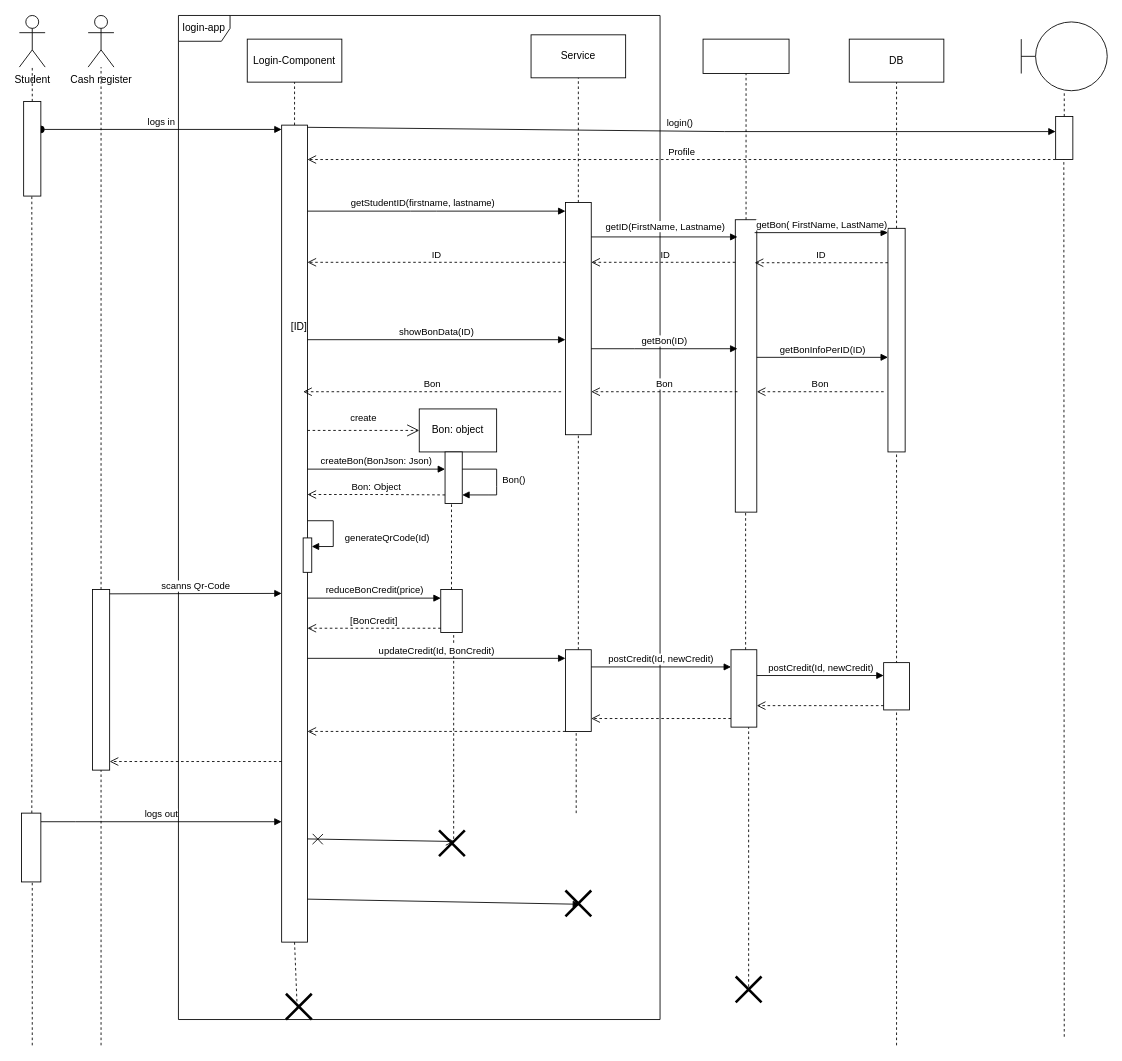
This 1122x1061 diagram has some shape labels left out. The centre of each missing label's shape, as x and y in pixels:
Backend: pixel 745 56
Microsoft Azure Client: pixel 1063 56
